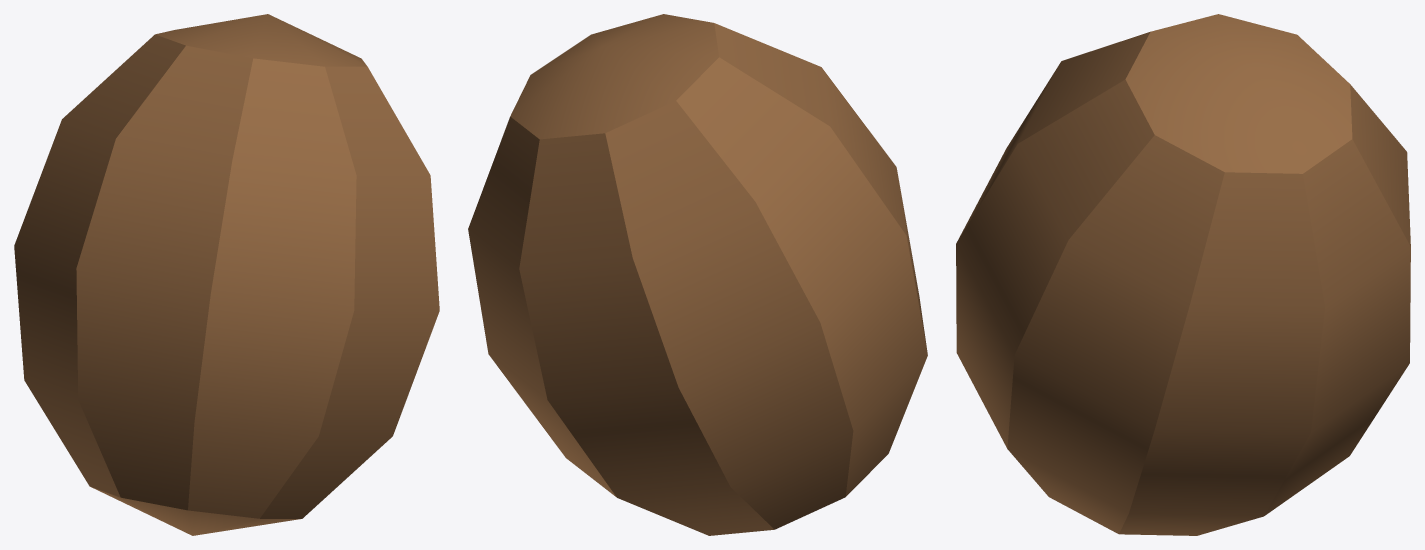
The model's file is coconut_001.glb.
The picture shows the model from 3 angles, left to right: view 1: azimuth 30°, elevation 25°; view 2: azimuth 150°, elevation 25°; view 3: azimuth 270°, elevation 25°; orthographic projection. The views are drawn at different scales.
Parts seen in each view (by area): view 1: coconut.001; view 2: coconut.001; view 3: coconut.001.
Part boxes in pixels (box(x1,y1,x2,y2)): coconut.001: box(14, 14, 439, 535); coconut.001: box(468, 14, 927, 535); coconut.001: box(956, 14, 1410, 535).
Bounding box in the file's own units: 0.2981 × 0.3481 × 0.2882.
1 material, 1 textured.
